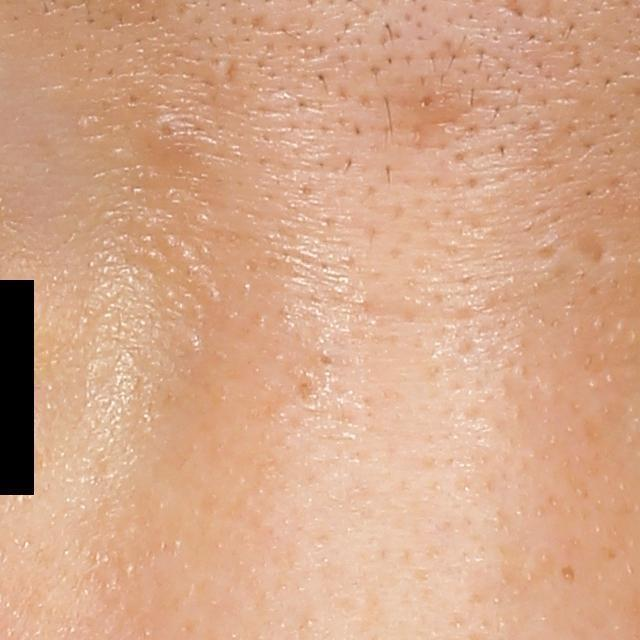atrophic_scar: (394, 84, 469, 156), (576, 236, 606, 268), (223, 60, 238, 88)
comedo: (146, 114, 186, 153), (315, 349, 334, 370)
